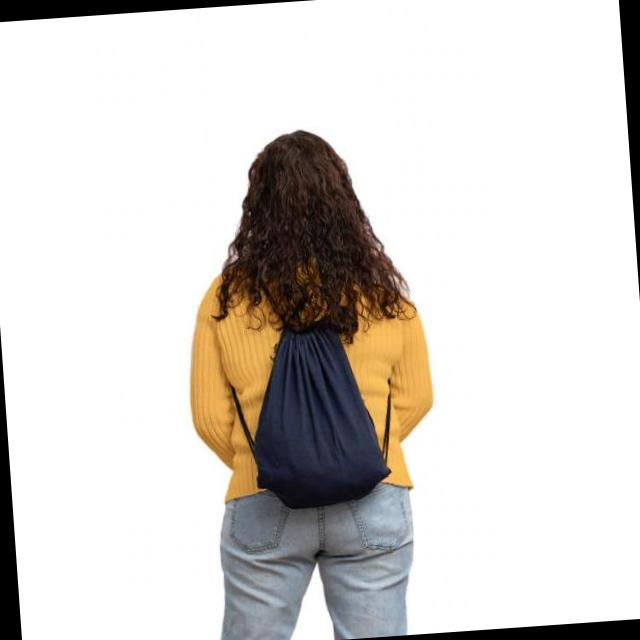no helmet: (216, 89, 392, 326)
